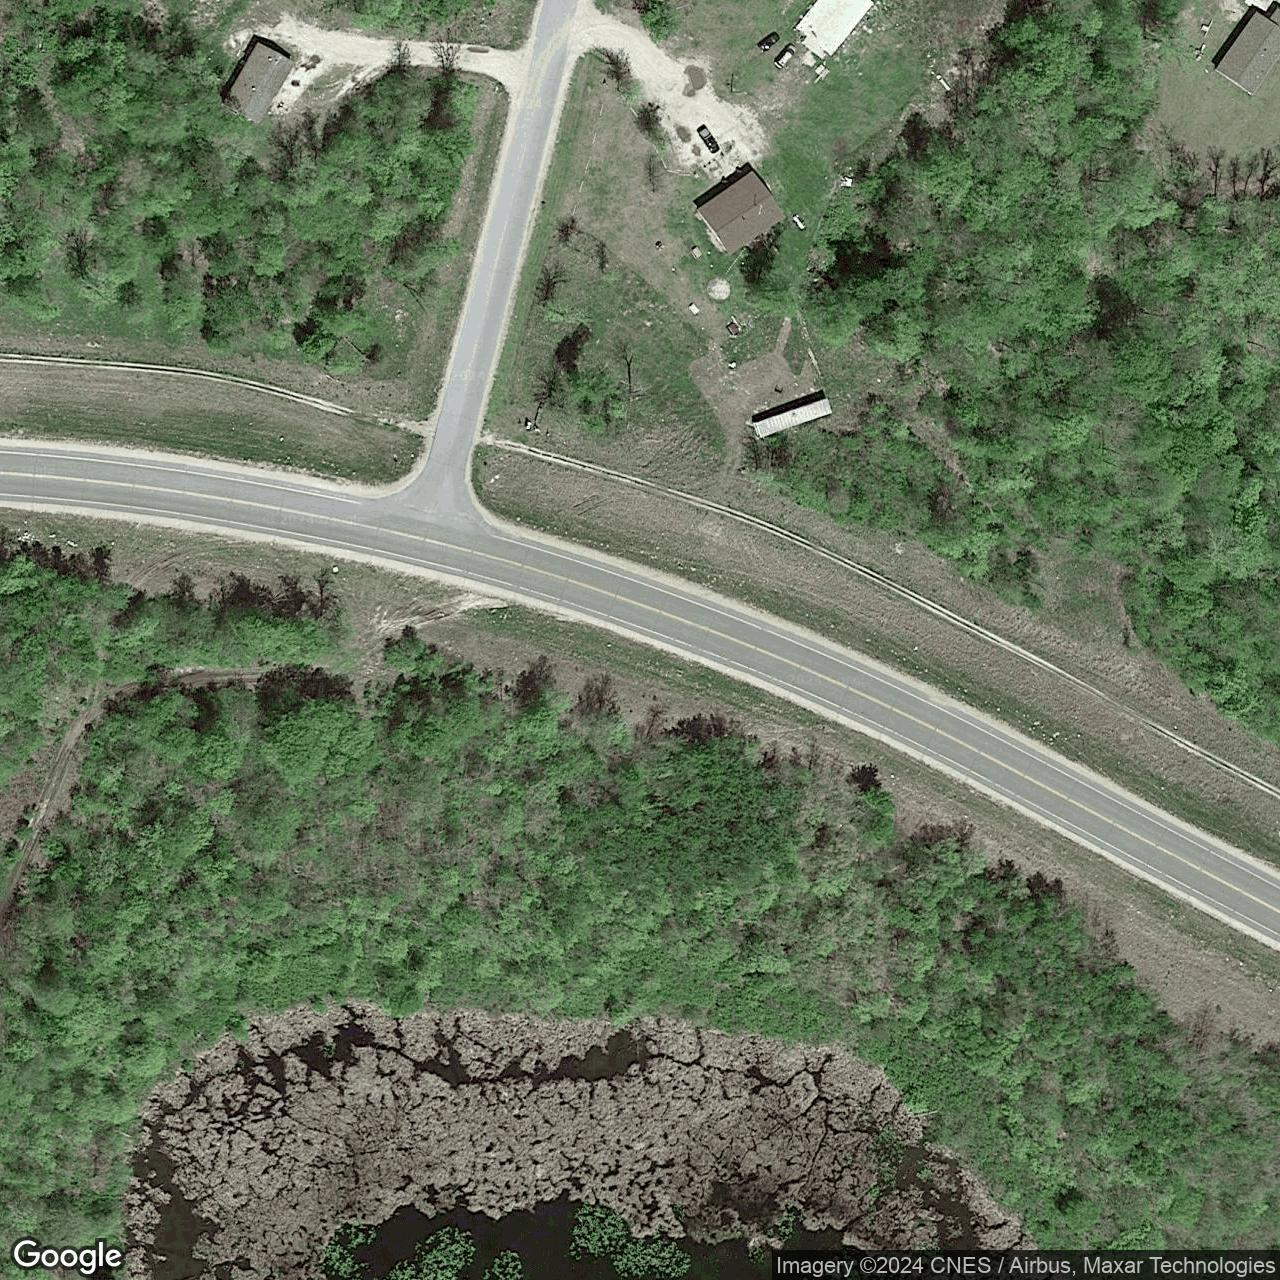House: (695, 169, 789, 258), (219, 41, 295, 127), (1213, 5, 1280, 97), (795, 0, 876, 60)
Propane: (790, 212, 809, 233)
Trailer: (753, 396, 835, 440)
